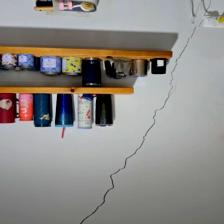Medium: (81, 125, 172, 221)
